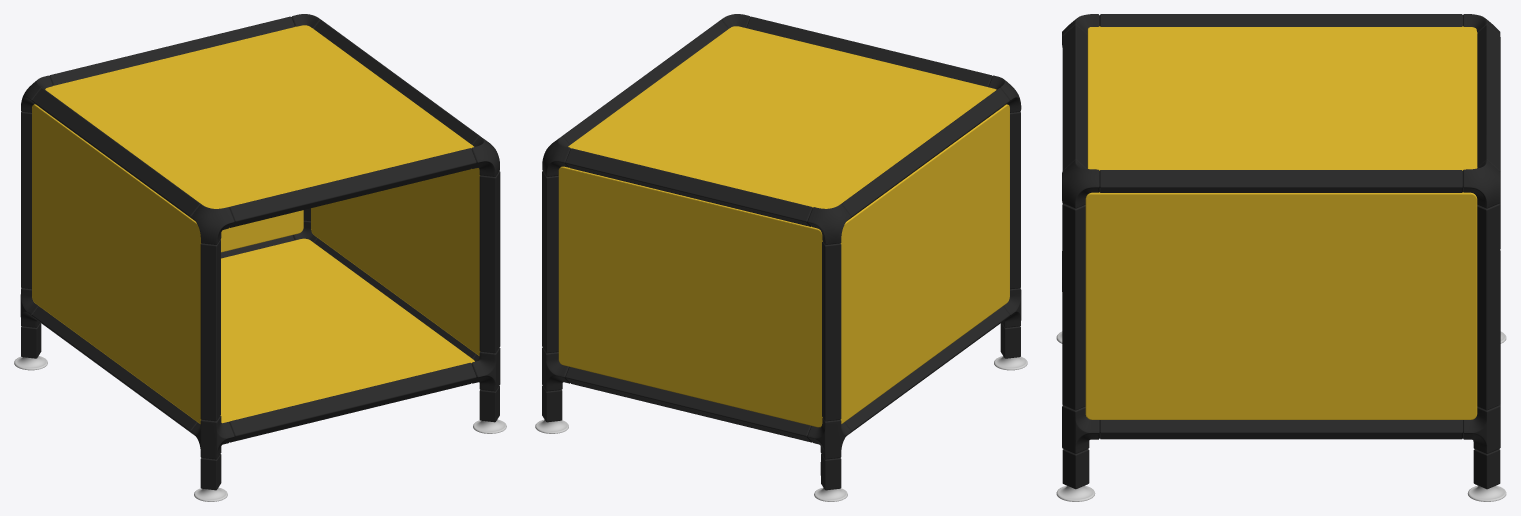
The picture shows the model from 3 angles, left to right: view 1: azimuth 30°, elevation 25°; view 2: azimuth 150°, elevation 25°; view 3: azimuth 270°, elevation 25°; orthographic projection. The views are drawn at different scales.
Visible parts, largest first — view 1: 329x374x229; view 2: 329x374x229; view 3: 329x374x229.
Part boxes in pixels (bbox=[...]): 329x374x229: bbox=[14, 14, 506, 501]; 329x374x229: bbox=[535, 14, 1027, 501]; 329x374x229: bbox=[1056, 14, 1506, 501].
Bounding box in the file's own units: 0.4189 × 0.3683 × 0.4632.
